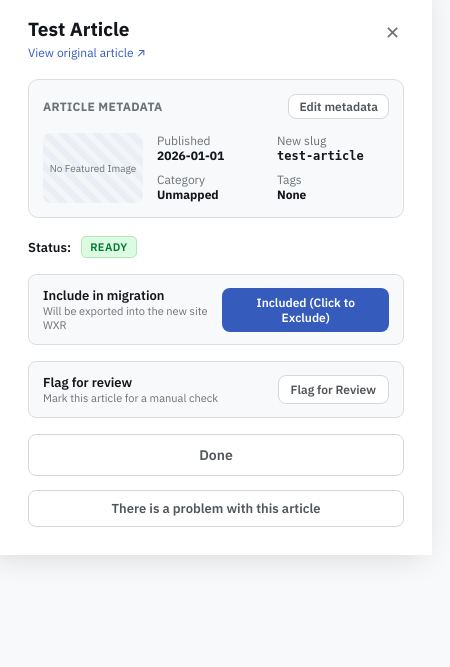
Test: ArticleSidebar debug copy › reveals a problem textarea with Submit and Cancel when clicked
This screenshot has width=450, height=667.
Click the button "There is a problem with this article": (216, 508) [28,490,404,527]
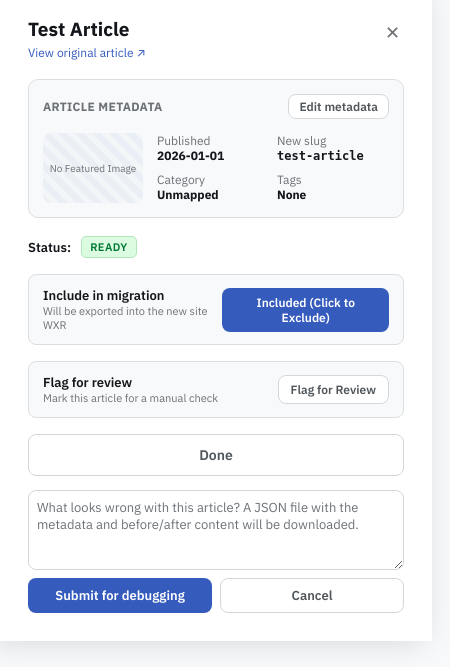
Result: the text box is shown at [28,490,404,570]
Result: the button "Submit for debugging" is shown at [28,578,212,613]
Result: the button "Cancel" is shown at [220,578,404,613]
